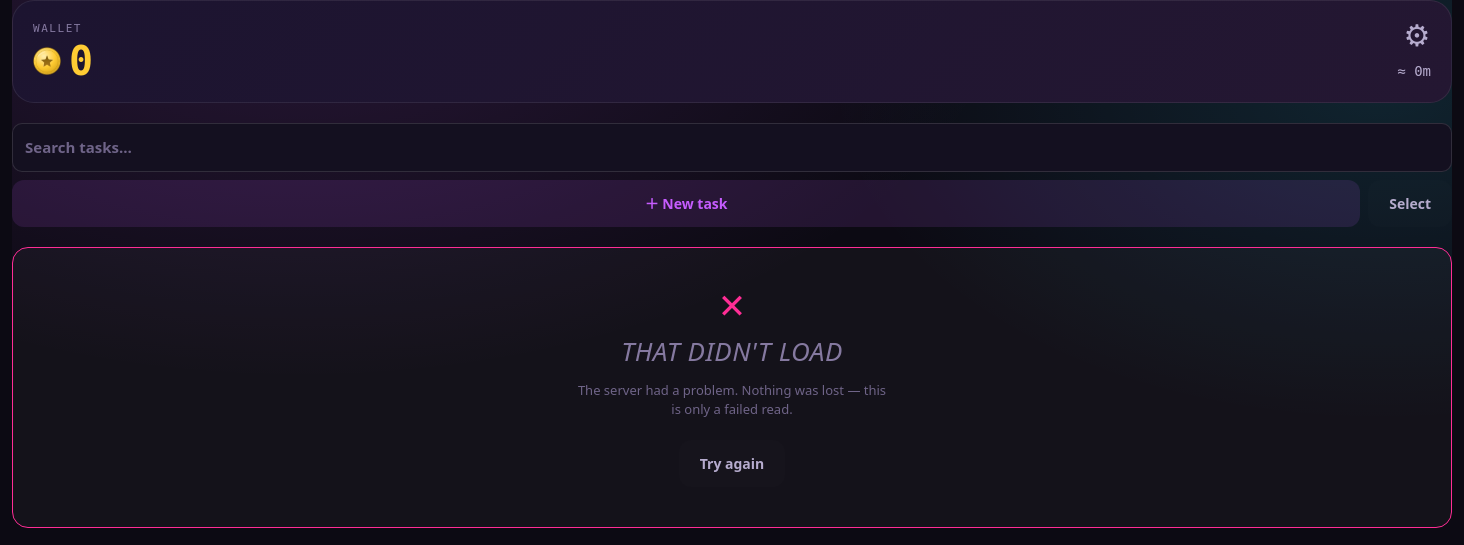
the home screen › recovers to the real list when the retry succeeds
Click the button "Try again" at (732, 464), box [679,440,785,487]
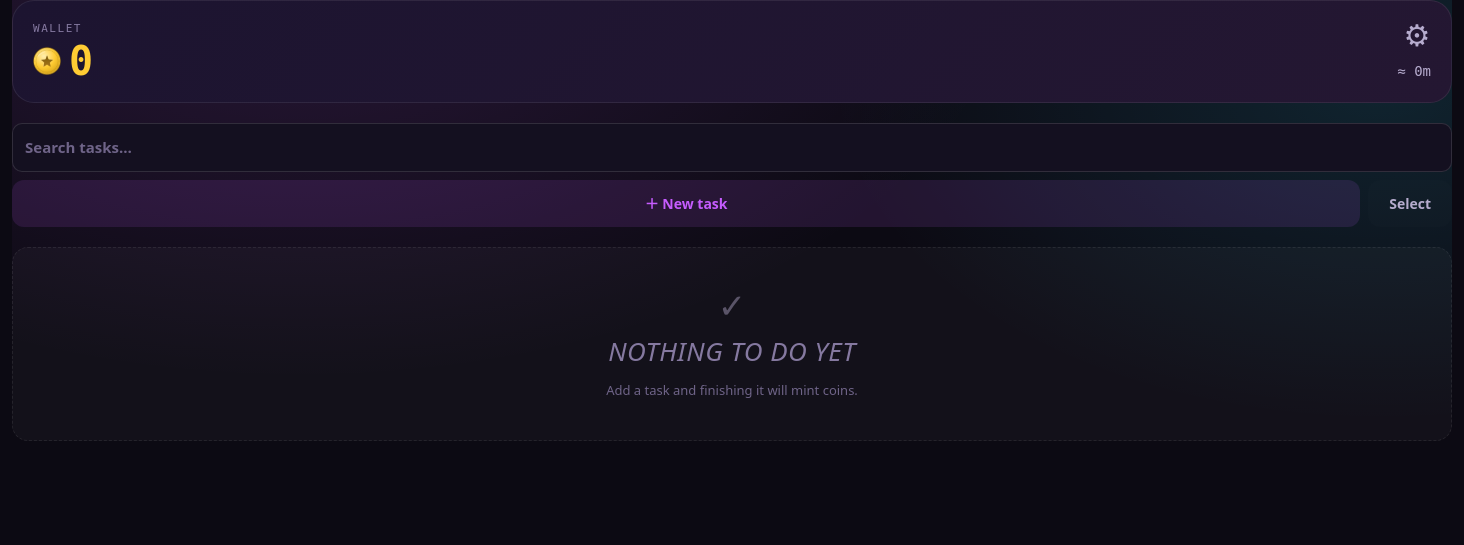
Expected: the heading "Nothing to do yet" is shown, [608,334,856,369]
Expected: the message is gone
